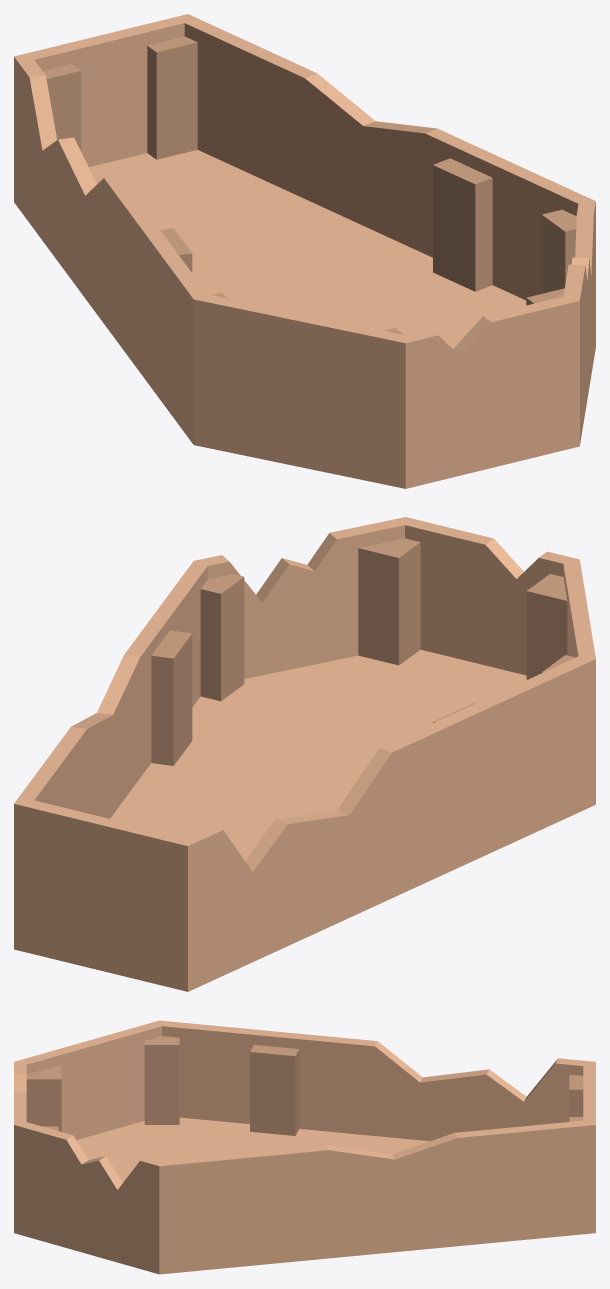
Rendered from coffinOld.glb.
3 views of the same model, one above another, from view 1: azimuth 30°, elevation 25°; view 2: azimuth 150°, elevation 25°; view 3: azimuth 270°, elevation 25° (orthographic). The views are drawn at different scales.
Visible parts, largest first — view 1: coffinOld; view 2: coffinOld; view 3: coffinOld.
Part boxes in pixels (box(x1,y1,x2,y2)): coffinOld: box(14, 14, 595, 488); coffinOld: box(14, 517, 595, 991); coffinOld: box(14, 1020, 595, 1274).
Bounding box in the file's own units: 0.5928 × 0.2052 × 1.
